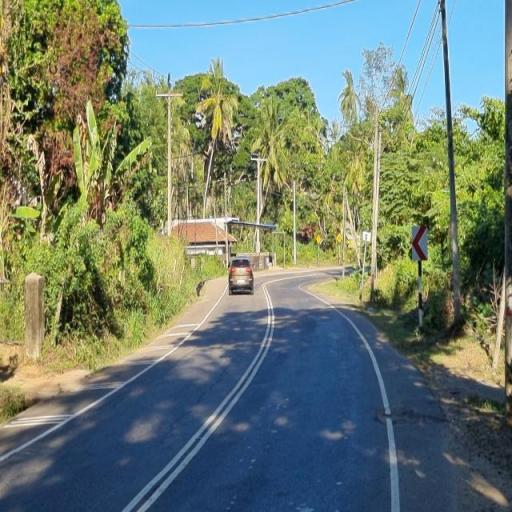double_white_line: (118, 282, 276, 512)
